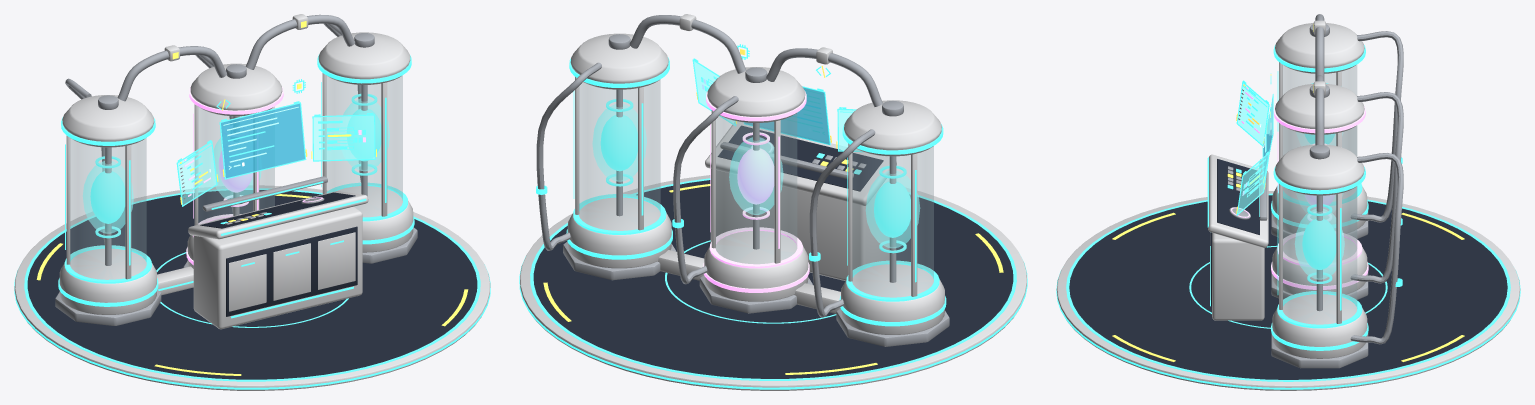
Rendered from lab.glb.
3 views of the same model, side by side, from view 1: azimuth 30°, elevation 25°; view 2: azimuth 150°, elevation 25°; view 3: azimuth 270°, elevation 25° (orthographic). The views are drawn at different scales.
Parts seen in each view (by area): view 1: lab; view 2: lab; view 3: lab.
Boxes of the visible parts, left/top/right/bottom form: lab: left=14, top=14, right=490, bottom=390; lab: left=519, top=14, right=1027, bottom=390; lab: left=1056, top=14, right=1520, bottom=390.
Size of the model in its own units: 3.71 by 2.12 by 3.71.
